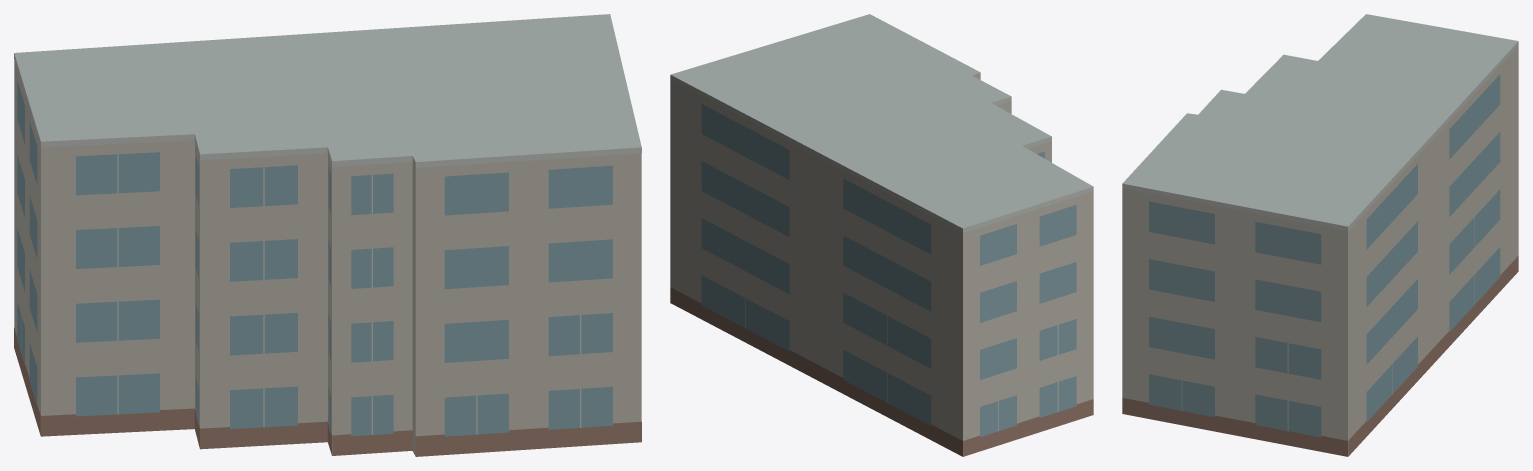
Rendered from survey-upis-32912939.glb.
3 renders of one model, left to right at view 1: azimuth 30°, elevation 25°; view 2: azimuth 150°, elevation 25°; view 3: azimuth 270°, elevation 25°, orthographic. The views are drawn at different scales.
Parts seen in each view (by area): view 1: survey-upis-32912939.tmp; view 2: survey-upis-32912939.tmp; view 3: survey-upis-32912939.tmp.
Part boxes in pixels (left/top/right/bottom): survey-upis-32912939.tmp: left=14, top=14, right=641, bottom=456; survey-upis-32912939.tmp: left=670, top=14, right=1093, bottom=456; survey-upis-32912939.tmp: left=1122, top=14, right=1518, bottom=456.
Bounding box in the file's own units: 24.17 × 12.2 × 19.04.
